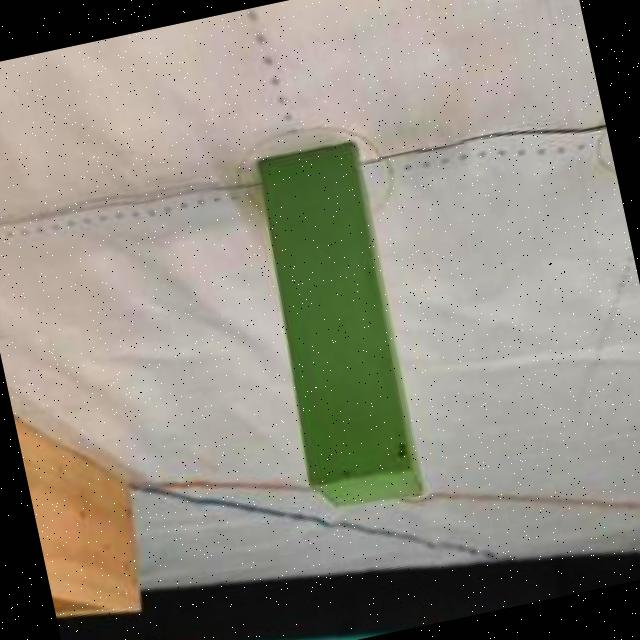greenbox: (234, 133, 437, 527)
